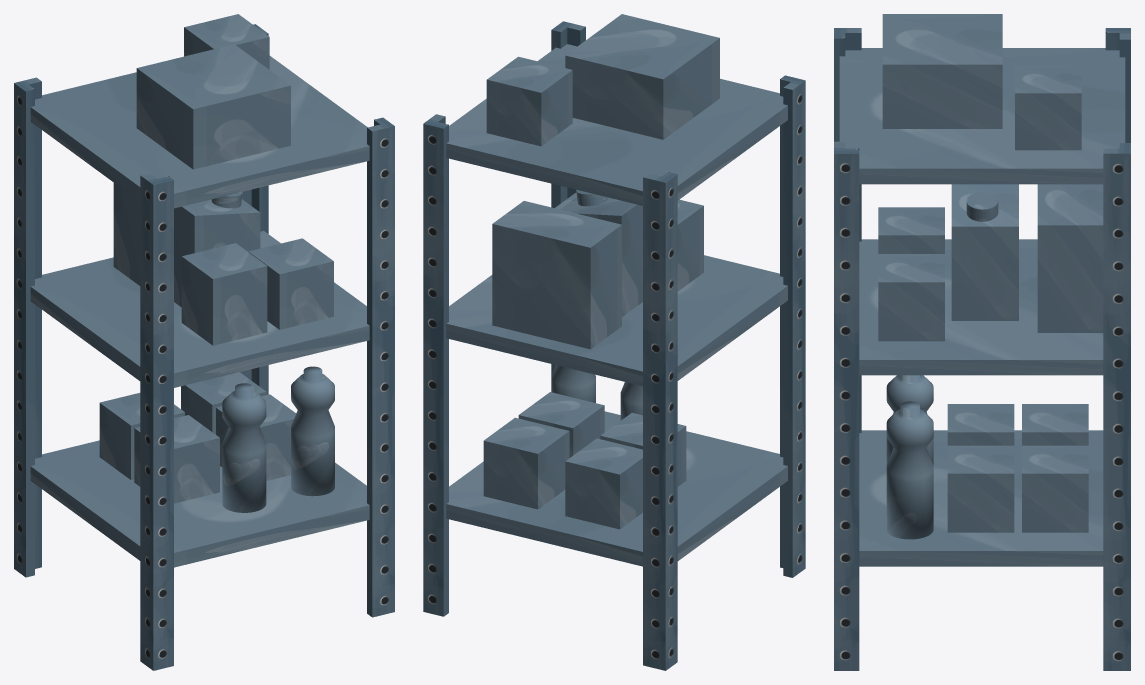
File: regal_var1.fbx
3 renders of one model, left to right at view 1: azimuth 30°, elevation 25°; view 2: azimuth 150°, elevation 25°; view 3: azimuth 270°, elevation 25°, orthographic. The views are drawn at different scales.
Visible parts, largest first — view 1: Regalcombined; view 2: Regalcombined; view 3: Regalcombined.
Part boxes in pixels (bbox=[...]): Regalcombined: bbox=[14, 14, 394, 670]; Regalcombined: bbox=[423, 14, 805, 670]; Regalcombined: bbox=[834, 14, 1130, 670].
Size of the model in its own units: 104 by 218 by 104.
3 materials, 3 textured.
